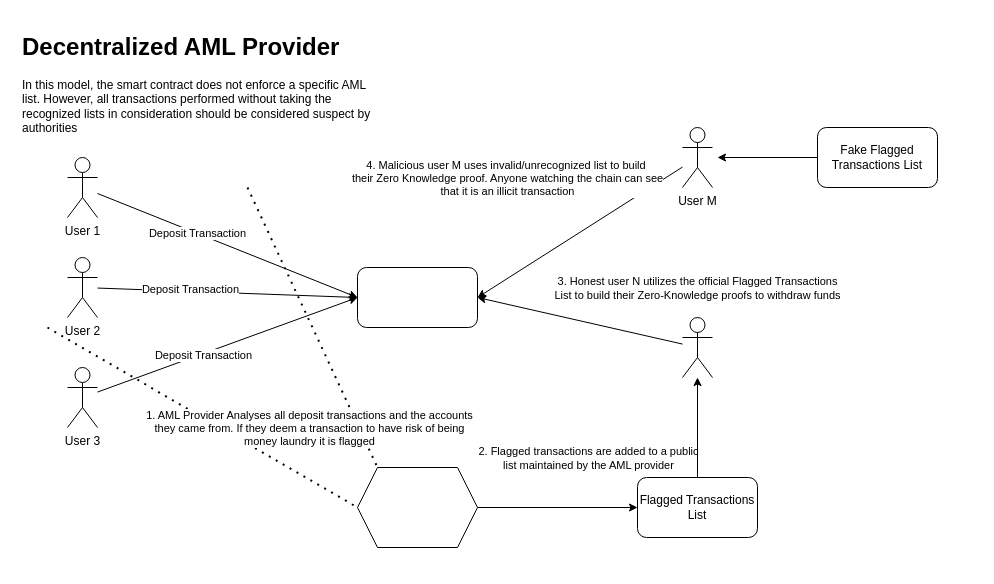
This 994x584 diagram has some shape labels left out. The box of each missing label's shape, as (x1, y1, x2, y2) in pixels:
AML Provider: (356, 466, 478, 548)
Opact Wallet Contract: (356, 266, 478, 328)
User N: (682, 316, 712, 378)
